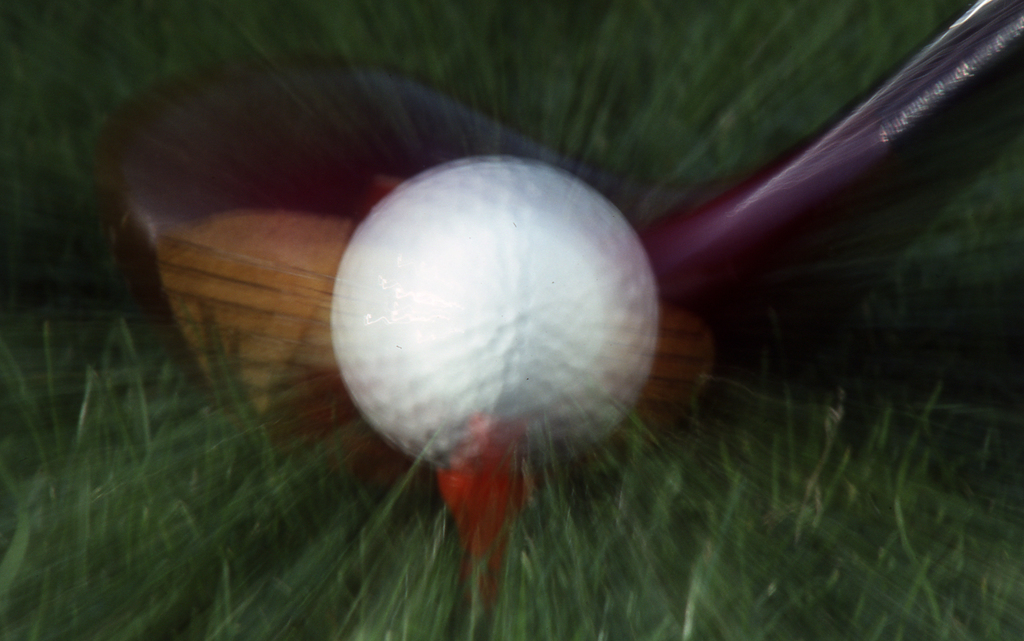Ball: (330, 160, 649, 483)
